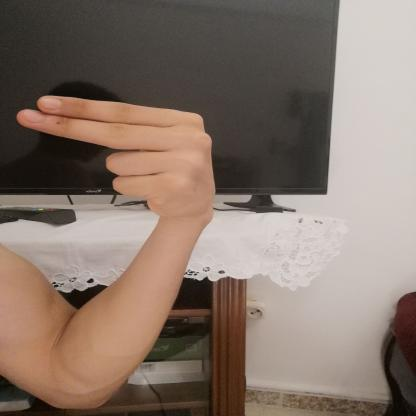AYN: (5, 84, 234, 231)
